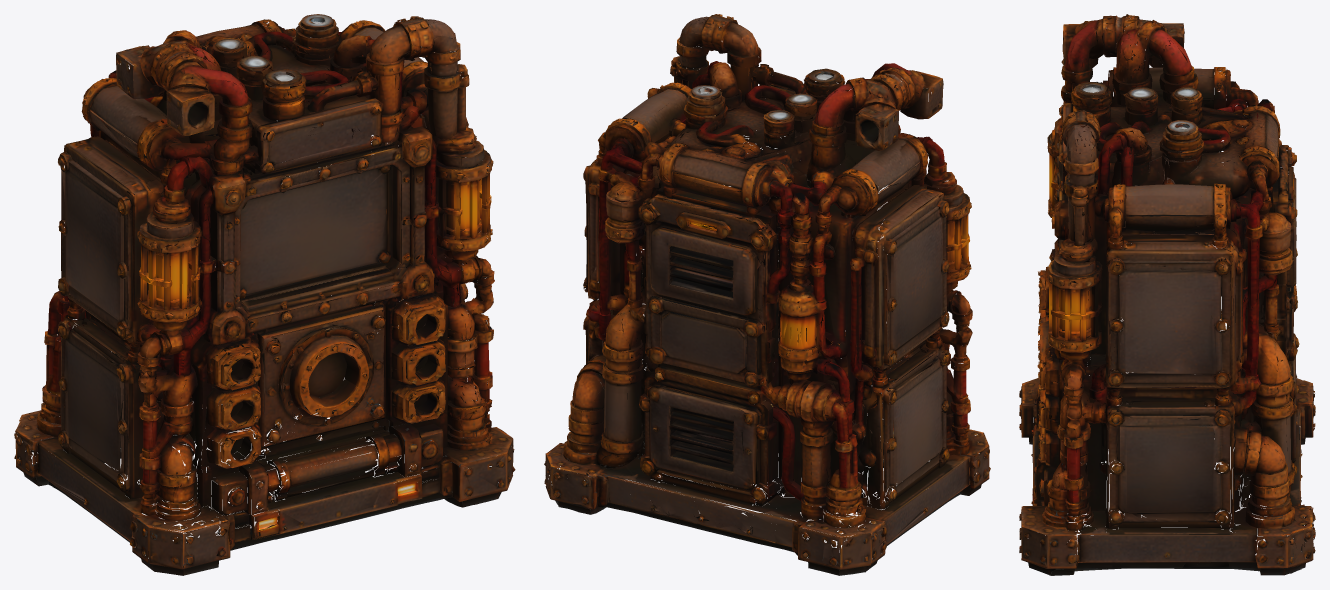
The model's file is computer.glb.
The picture shows the model from 3 angles, left to right: view 1: azimuth 30°, elevation 25°; view 2: azimuth 150°, elevation 25°; view 3: azimuth 270°, elevation 25°; orthographic projection. The views are drawn at different scales.
Visible parts, largest first — view 1: Mesh_0; view 2: Mesh_0; view 3: Mesh_0.
Boxes of the visible parts, bbox=[...] form: Mesh_0: bbox=[14, 14, 515, 575]; Mesh_0: bbox=[544, 14, 990, 575]; Mesh_0: bbox=[1019, 14, 1315, 575].
Size of the model in its own units: 0.7194 by 0.8916 by 0.5507.
1 material, 1 textured.
